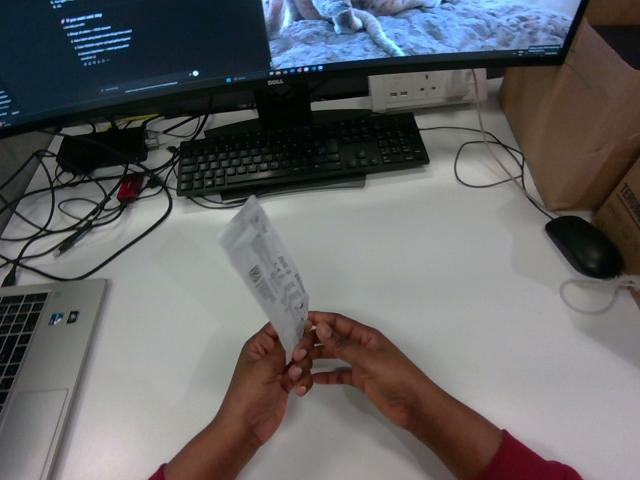syringe: (220, 196, 308, 362)
